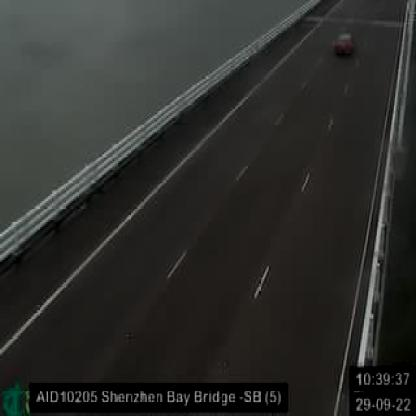Car: (330, 30, 356, 61)
